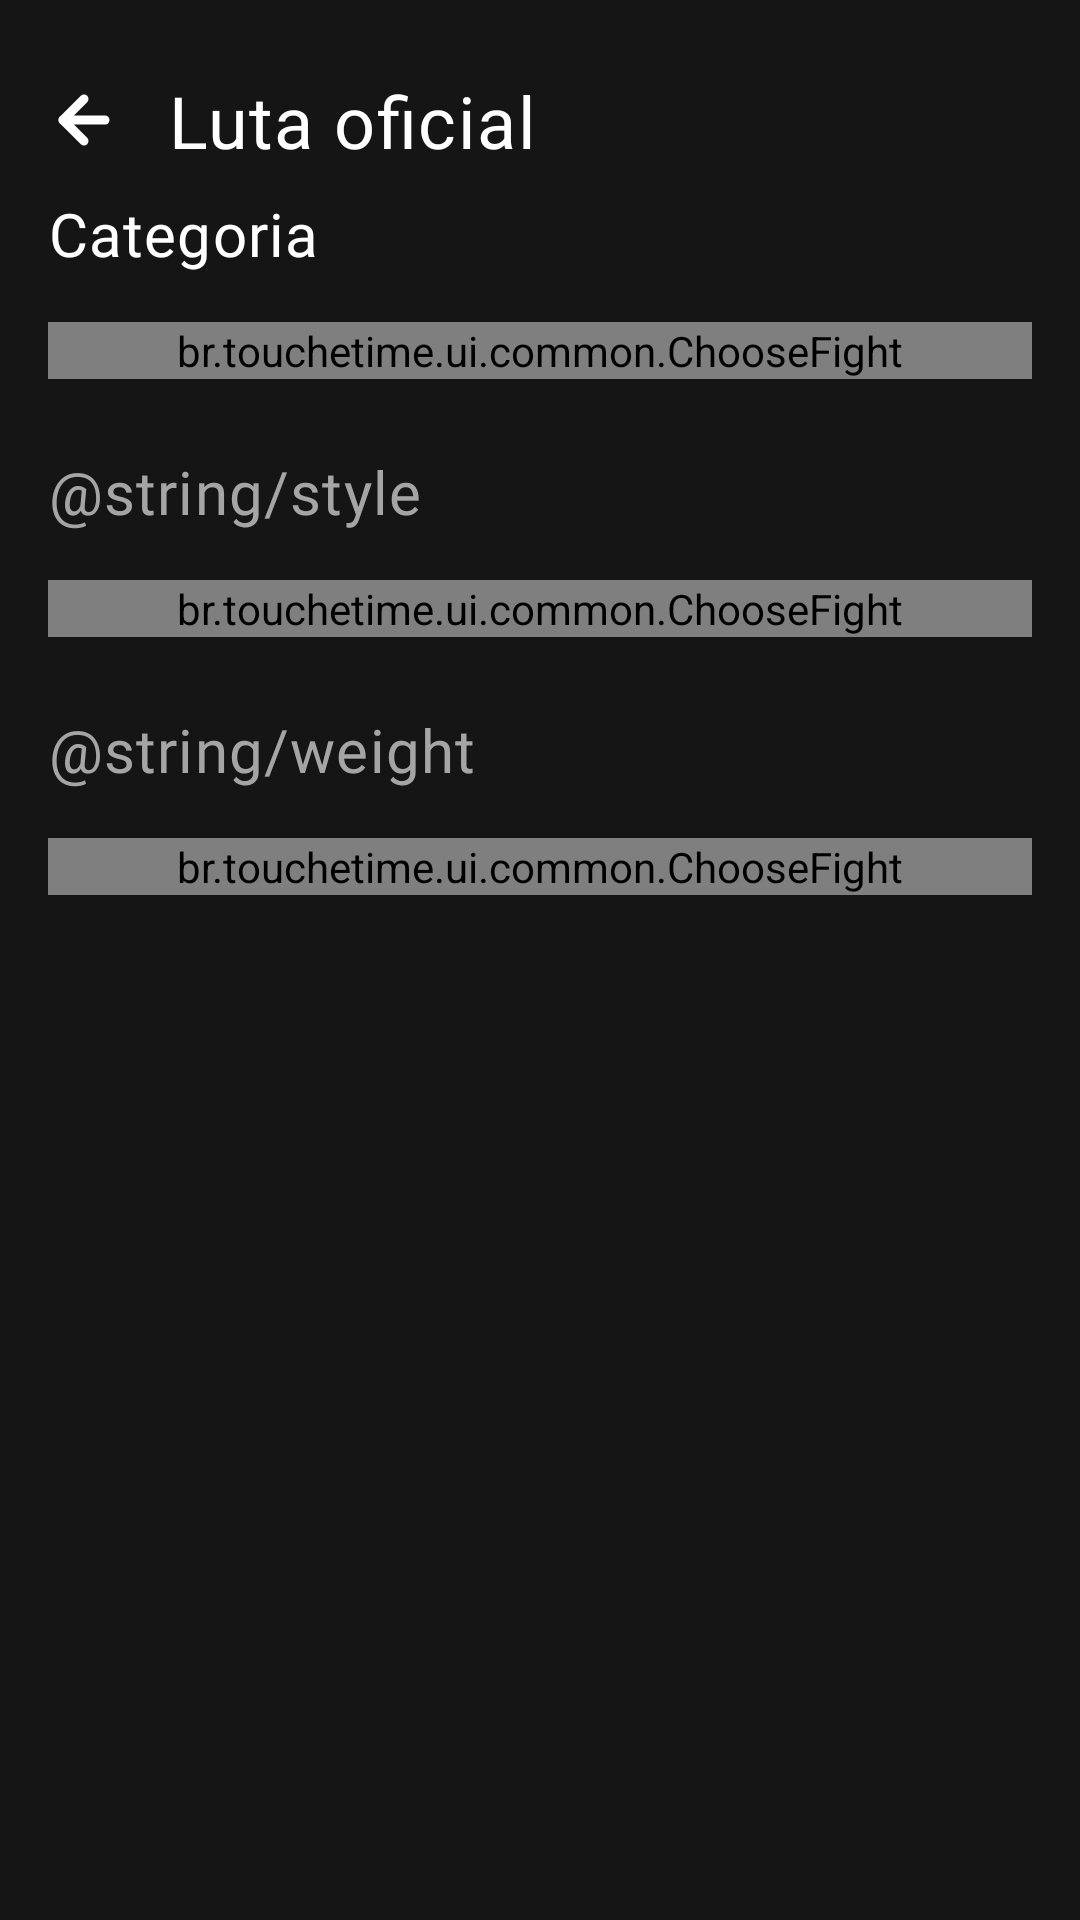

Named icons in this screenshot (1080×1920) and their centers, point (x, y):
arrow left: point (84, 120)
